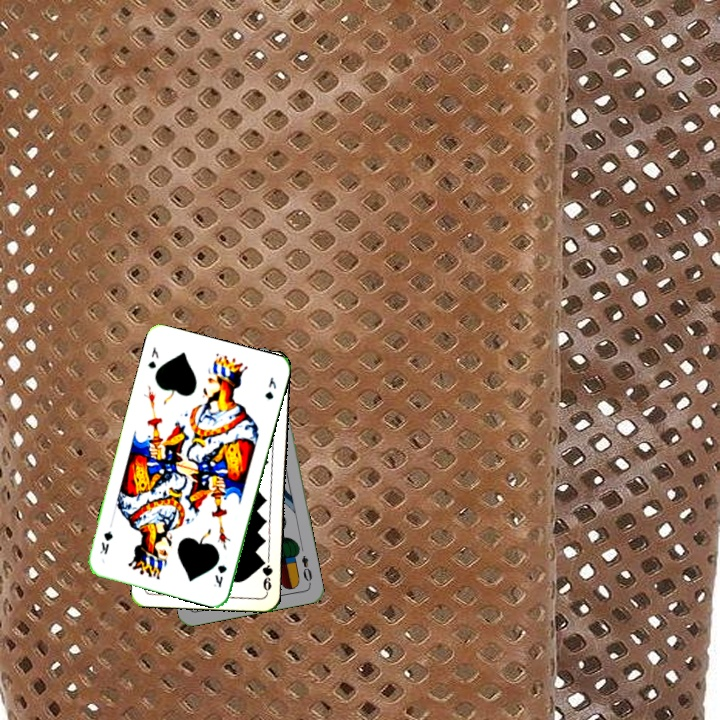EO: (297, 551, 315, 587)
G9: (256, 555, 275, 595)
GK: (211, 561, 229, 590), (144, 343, 161, 371)
